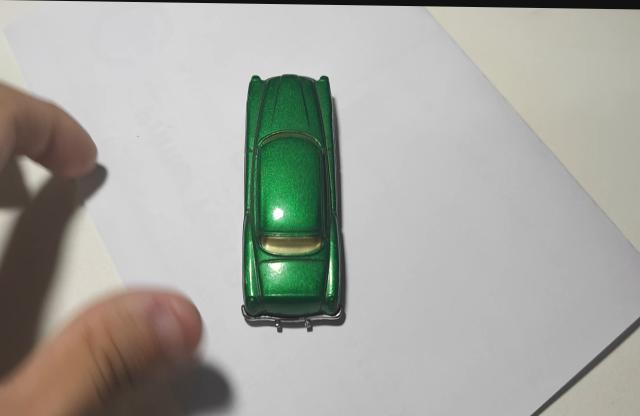06_MASERATI: (241, 73, 348, 331)
